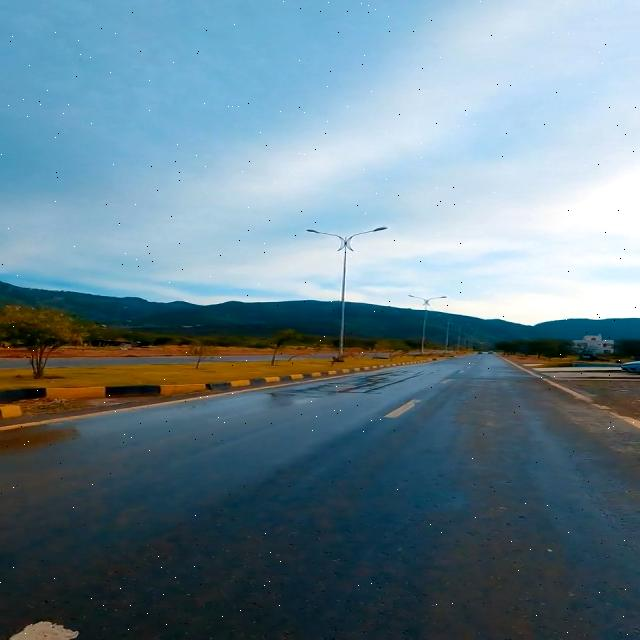lane: (385, 399, 421, 417)
road: (2, 355, 638, 639)
